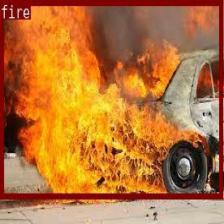fire: (0, 0, 222, 197)
